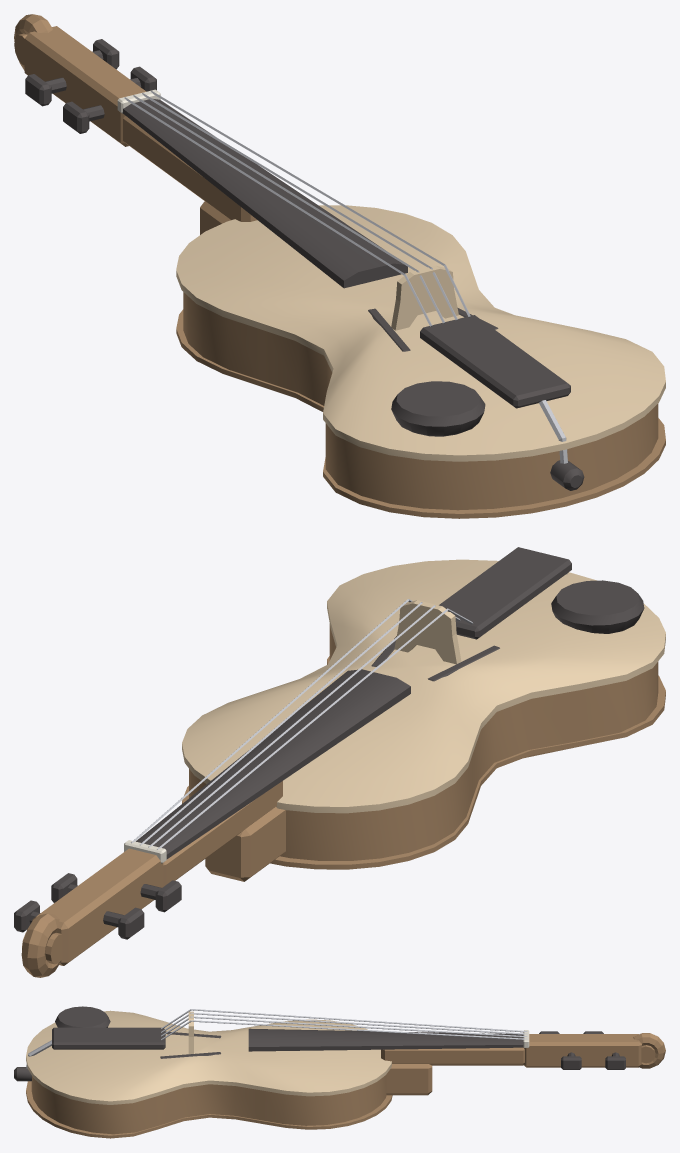
The model's file is orchestra-and-band-instruments-violin-natural-finish-ba80f2ed__39280.glb.
The picture shows the model from 3 angles, top to bottom: view 1: azimuth 30°, elevation 25°; view 2: azimuth 150°, elevation 25°; view 3: azimuth 270°, elevation 25°; orthographic projection. The views are drawn at different scales.
Visible parts, largest first — view 1: violin-natural-finish; view 2: violin-natural-finish; view 3: violin-natural-finish.
Part boxes in pixels (x1,y1,x2,y2): violin-natural-finish: [14, 14, 665, 518]; violin-natural-finish: [14, 547, 665, 977]; violin-natural-finish: [14, 1006, 665, 1138].
Size of the model in its own units: 0.2078 by 0.0948 by 0.6321.
